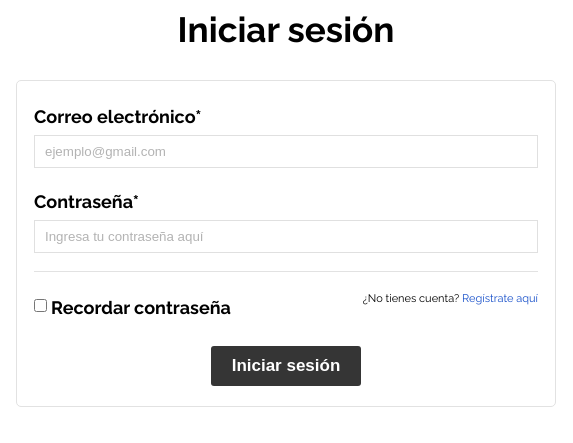
Login › muestra error con email inválido
In the field labelled "Correo electrónico*": [286, 152] box [34,135,538,168], type "nico"
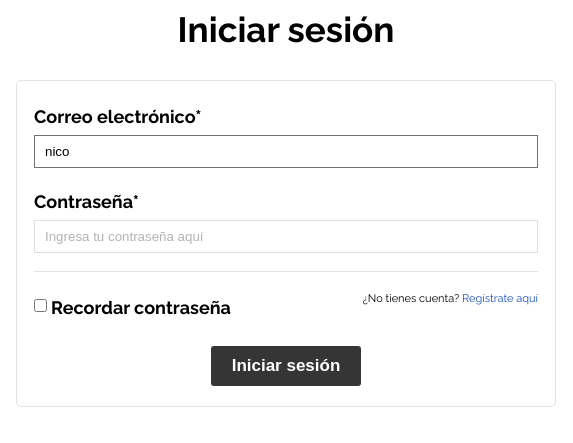
In the password field labelled "Contraseña*": [286, 236] box [34,220,538,253], type "123456"
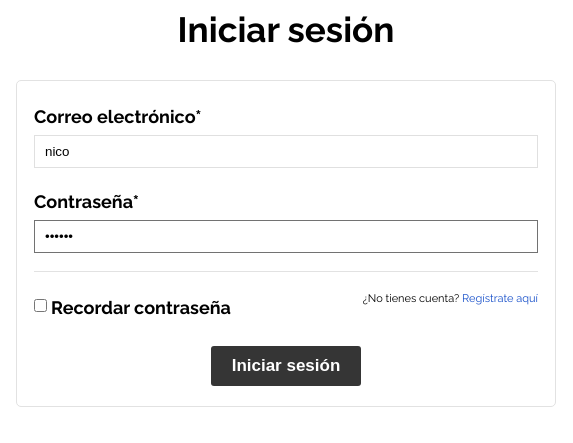
Click the button "Iniciar sesión": [286, 366] box [211,346,361,386]
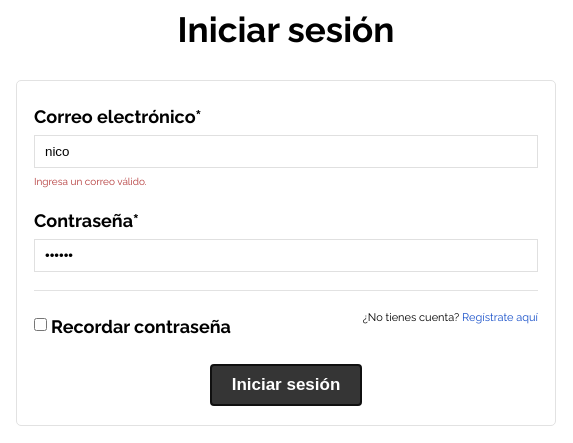
Now the text "Ingresa un correo válido." is shown, box [34,176,147,187]
